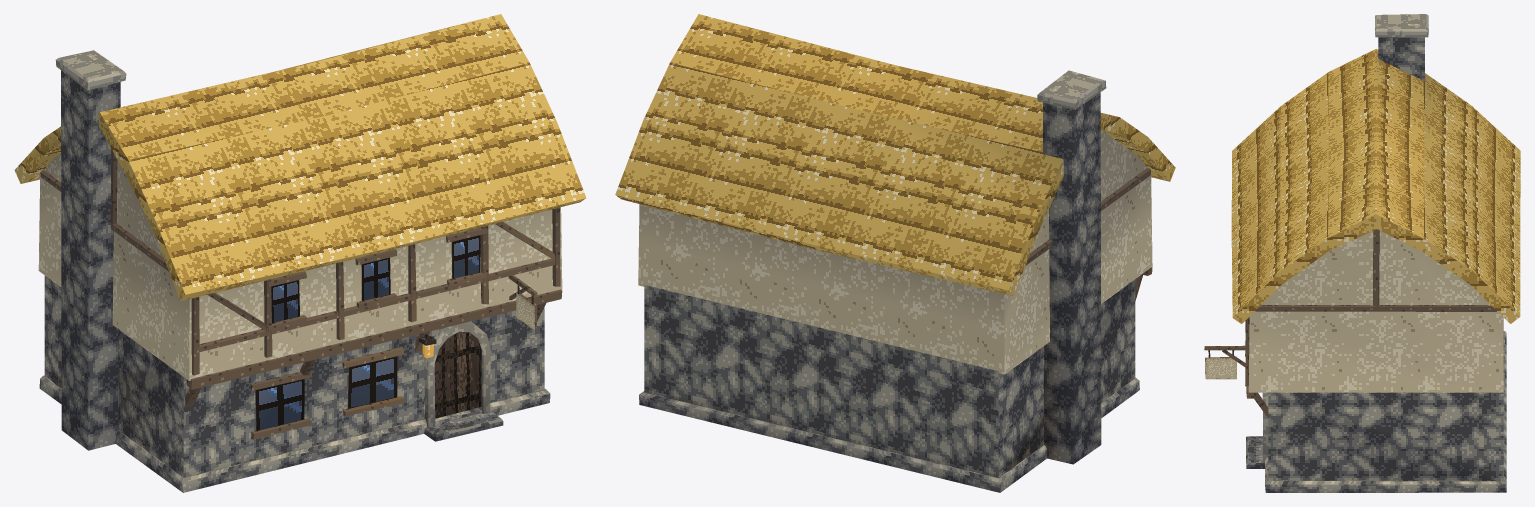
File: vlg.tavern__thatch.glb
3 renders of one model, left to right at view 1: azimuth 30°, elevation 25°; view 2: azimuth 150°, elevation 25°; view 3: azimuth 270°, elevation 25°, orthographic. The views are drawn at different scales.
Parts seen in each view (by area): view 1: kit_roof, kit_walls, kit_stonework, kit_fittings, kit_frame; view 2: kit_walls, kit_roof, kit_stonework, kit_frame; view 3: kit_roof, kit_walls, kit_stonework, kit_frame, kit_fittings.
Boxes of the visible parts, <box> form: kit_roof: <box>14,14,586,301</box>; kit_walls: <box>38,153,562,477</box>; kit_stonework: <box>39,50,550,492</box>; kit_fittings: <box>250,227,537,441</box>; kit_frame: <box>40,149,562,407</box>; kit_walls: <box>638,130,1152,477</box>; kit_roof: <box>615,14,1175,295</box>; kit_stonework: <box>639,70,1139,492</box>; kit_frame: <box>1025,168,1152,300</box>; kit_roof: <box>1231,49,1520,323</box>; kit_walls: <box>1248,231,1503,481</box>; kit_stonework: <box>1265,14,1506,492</box>; kit_frame: <box>1245,229,1496,417</box>; kit_fittings: <box>1204,320,1268,468</box>.
Bounding box in the file's own units: 10.35 × 8.87 × 8.07.
Materials: 11 (11 with a texture image).
